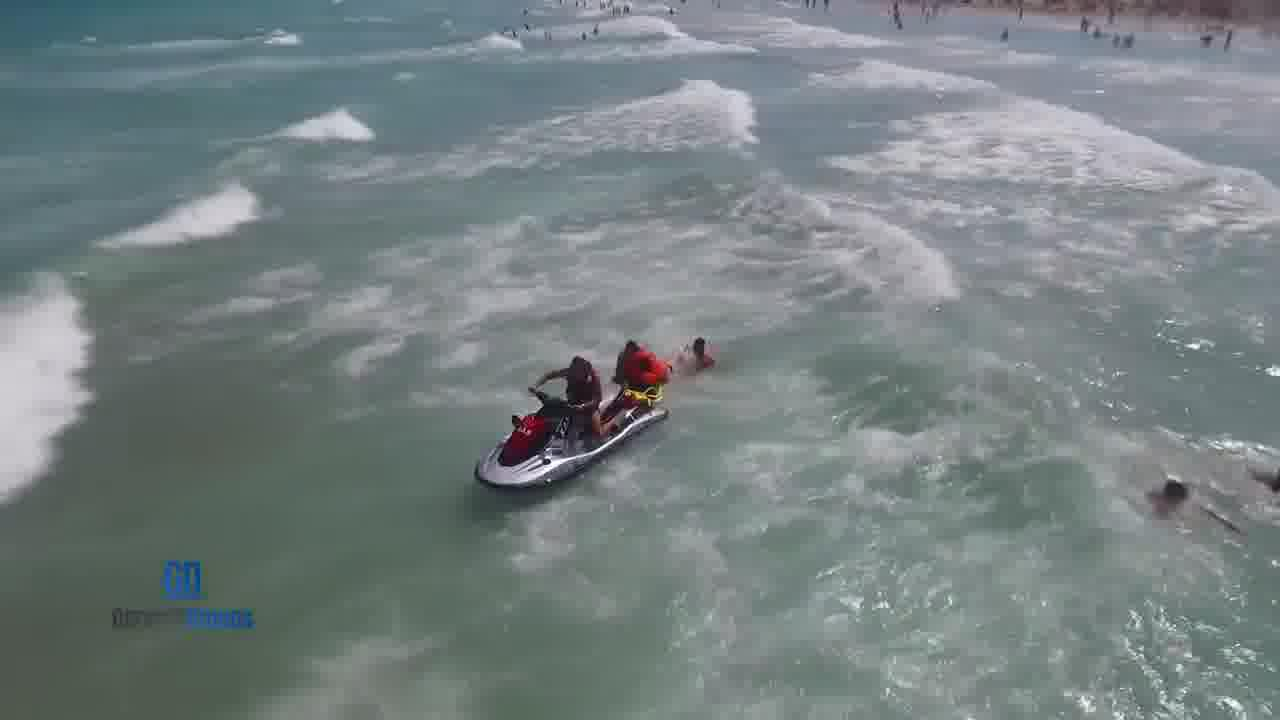swimmer: (611, 332, 666, 404), (1135, 468, 1189, 526), (682, 327, 727, 370), (1253, 455, 1280, 505)
